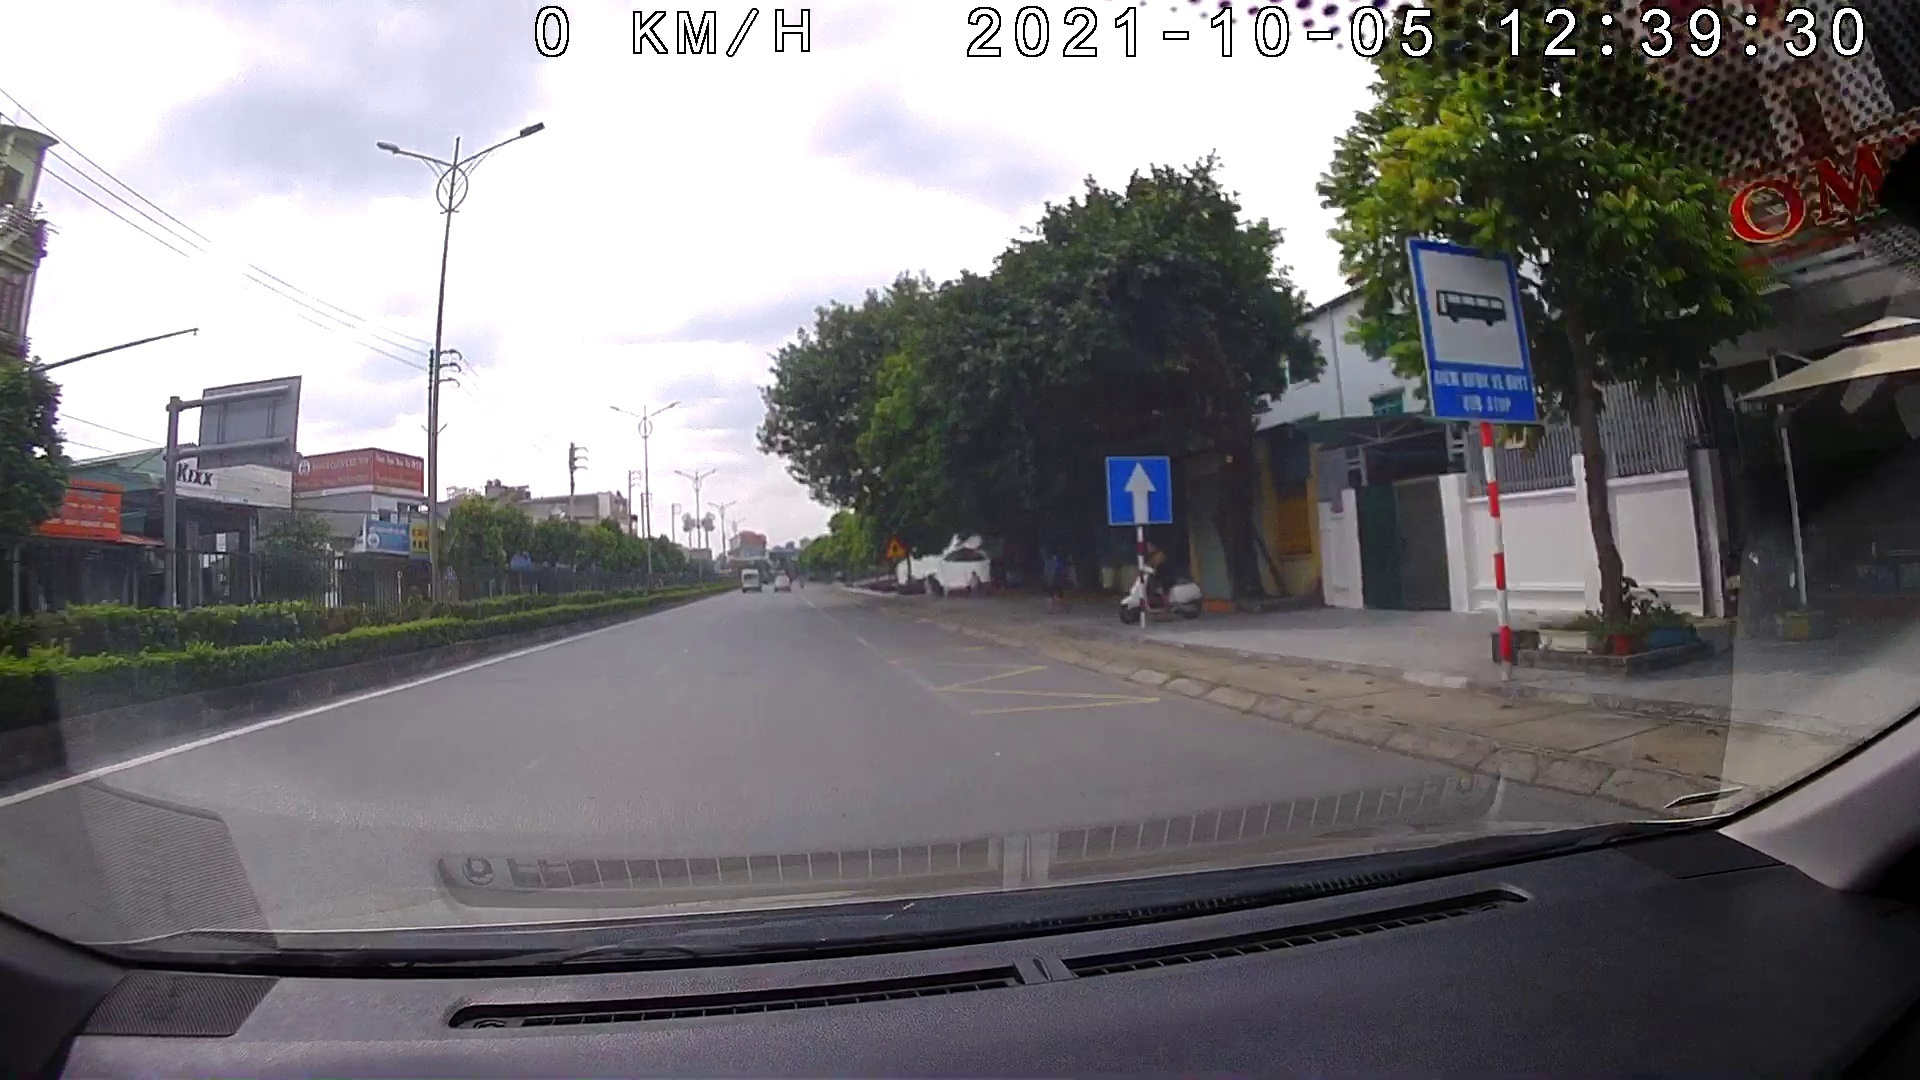Bien khac: (1404, 236, 1539, 425), (1106, 456, 1174, 526)
Giao nhau voi duong khong uu tien: (887, 533, 905, 556)
